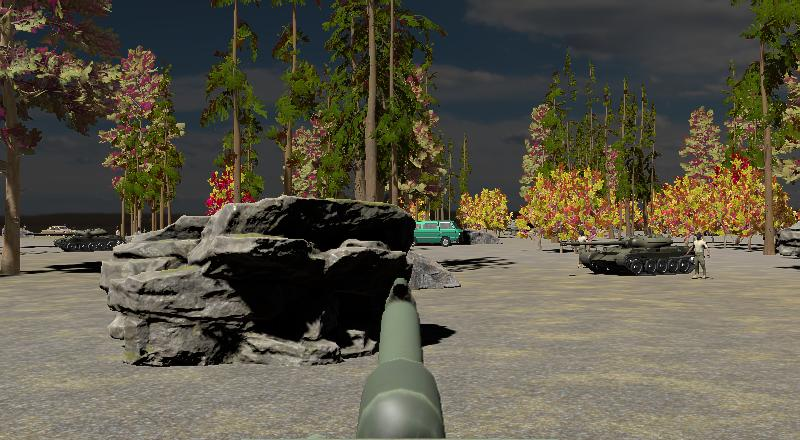Human: (690, 230, 710, 281)
Tank: (559, 231, 696, 278), (30, 226, 125, 254)
car: (412, 219, 467, 247)
